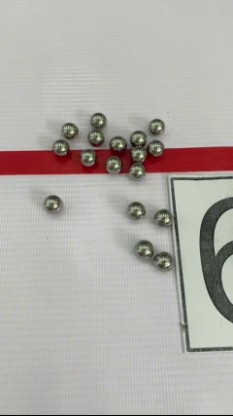ironball: (132, 235, 155, 262), (151, 248, 175, 273), (152, 202, 173, 230), (77, 145, 99, 170), (125, 196, 145, 222), (105, 132, 127, 154), (56, 118, 79, 139), (125, 159, 147, 180), (82, 127, 105, 147), (105, 154, 125, 177), (144, 139, 167, 159), (86, 109, 107, 130), (49, 139, 71, 159), (127, 144, 148, 164), (43, 190, 62, 212), (145, 114, 165, 134), (130, 128, 145, 147)
